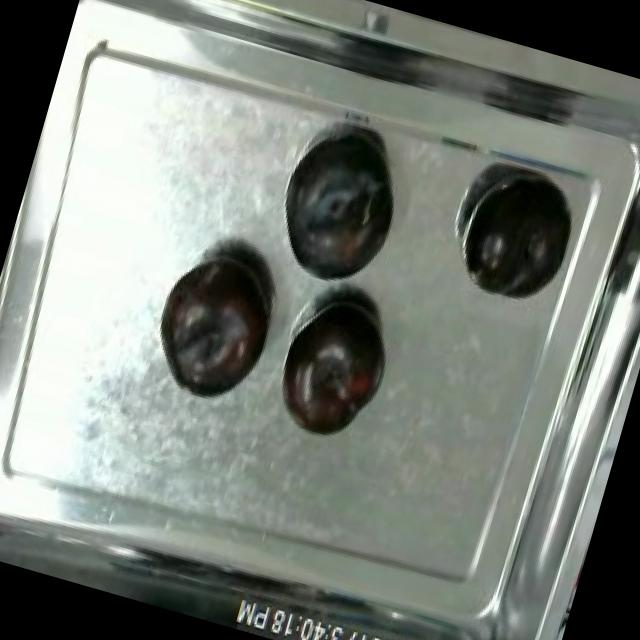Fruit: (263, 117, 419, 298), (139, 234, 292, 416), (265, 285, 405, 454), (450, 164, 586, 316)
